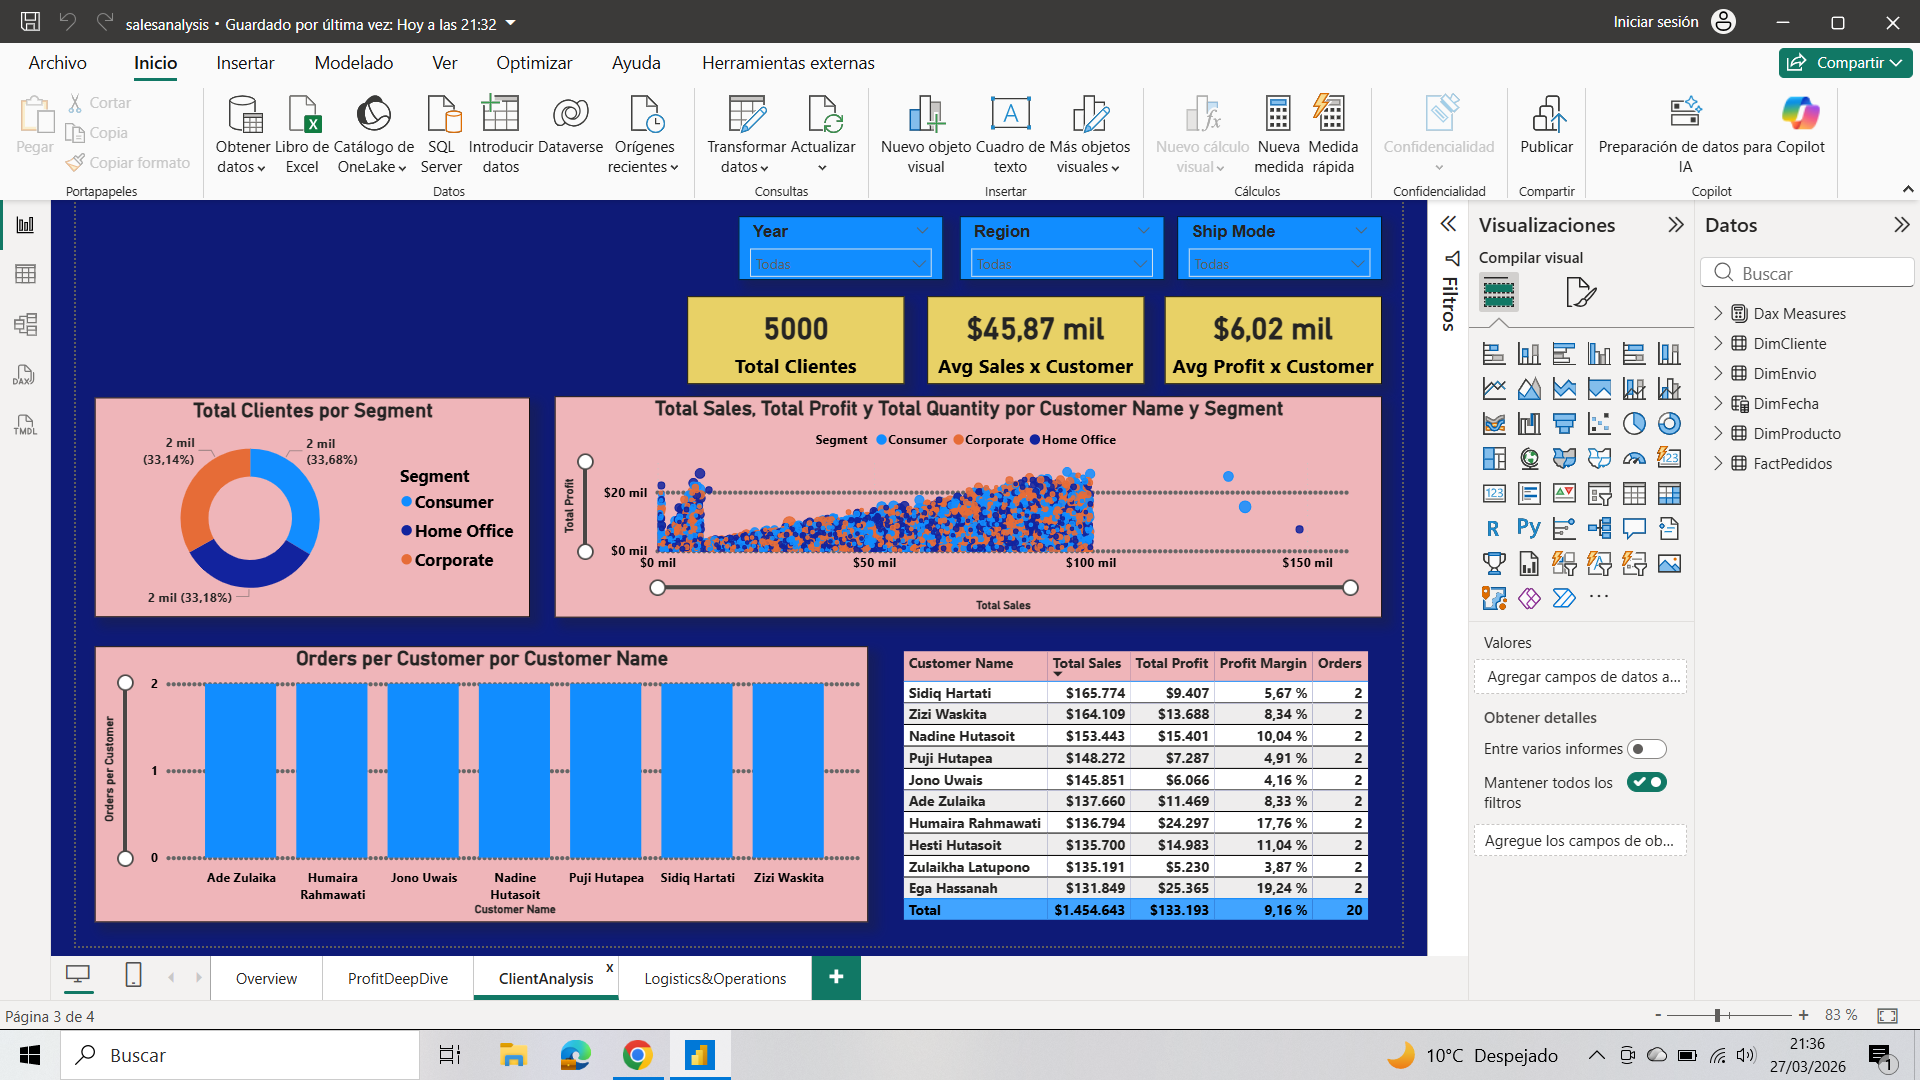

This screenshot's page, from the dashboard's own definition file:
{"tool":"powerbi","page":{"name":"ClientAnalysis","canvas":[1280,720],"ordinal":2},"visuals":[{"type":"slicer","fields":{"Values":["DimFecha.Year"]},"box":[639.5,15.1,197.6,61.7],"z":0},{"type":"slicer","fields":{"Values":["DimCliente.Region"]},"box":[853.5,15.1,197.6,61.7],"z":1000},{"type":"slicer","fields":{"Values":["DimEnvio.Ship Mode"]},"box":[1063.5,15.1,197.6,61.7],"z":2000},{"type":"card","fields":{"Values":["Dax Measures.Total Clientes"]},"box":[590.1,93.3,209.9,85.1],"z":3000},{"type":"card","fields":{"Values":["Dax Measures.Avg Sales per Customer"]},"box":[822,93.3,209.9,85.1],"z":4000},{"type":"card","fields":{"Values":["Dax Measures.Avg Profit per Customer"]},"box":[1051.1,93.3,209.9,85.1],"z":5000},{"type":"scatterChart","fields":{"X":["Dax Measures.Total Sales"],"Y":["Dax Measures.Total Profit"],"Size":["Dax Measures.Total Quantity"],"Series":["DimCliente.Segment"],"Category":["DimCliente.Customer Name"]},"box":[462.1,189.4,798.7,213.5],"z":6000},{"type":"columnChart","fields":{"Category":["DimCliente.Customer Name"],"Y":["Dax Measures.Orders per Customer"]},"box":[17.8,430.9,746.5,266.2],"z":7000},{"type":"donutChart","fields":{"Y":["Dax Measures.Total Clientes"],"Category":["DimCliente.Segment"]},"box":[18.1,190.6,419.8,212.3],"z":8000},{"type":"tableEx","fields":{"Values":["DimCliente.Customer Name","Dax Measures.Total Sales","Dax Measures.Total Profit","Dax Measures.Profit Margin","Dax Measures.Orders per Customer"]},"box":[793.1,430.9,477.5,279.9],"z":9000}]}

Visuals, with their boxes on the page's 1280x720 design canvas (x1, y1, x2, y2). These are canvas units, not pixel positions in the 1920x1080 screenshot, which may show the page scaled, cropped or inside an application window:
slicer - DimFecha.Year: [x1=640, y1=15, x2=837, y2=77]
slicer - DimCliente.Region: [x1=854, y1=15, x2=1051, y2=77]
slicer - DimEnvio.Ship Mode: [x1=1064, y1=15, x2=1261, y2=77]
card - Dax Measures.Total Clientes: [x1=590, y1=93, x2=800, y2=178]
card - Dax Measures.Avg Sales per Customer: [x1=822, y1=93, x2=1032, y2=178]
card - Dax Measures.Avg Profit per Customer: [x1=1051, y1=93, x2=1261, y2=178]
scatterChart - Dax Measures.Total Sales x Dax Measures.Total Profit: [x1=462, y1=189, x2=1261, y2=403]
columnChart - DimCliente.Customer Name x Dax Measures.Orders per Customer: [x1=18, y1=431, x2=764, y2=697]
donutChart - Dax Measures.Total Clientes x DimCliente.Segment: [x1=18, y1=191, x2=438, y2=403]
tableEx - DimCliente.Customer Name x Dax Measures.Total Sales: [x1=793, y1=431, x2=1271, y2=711]
